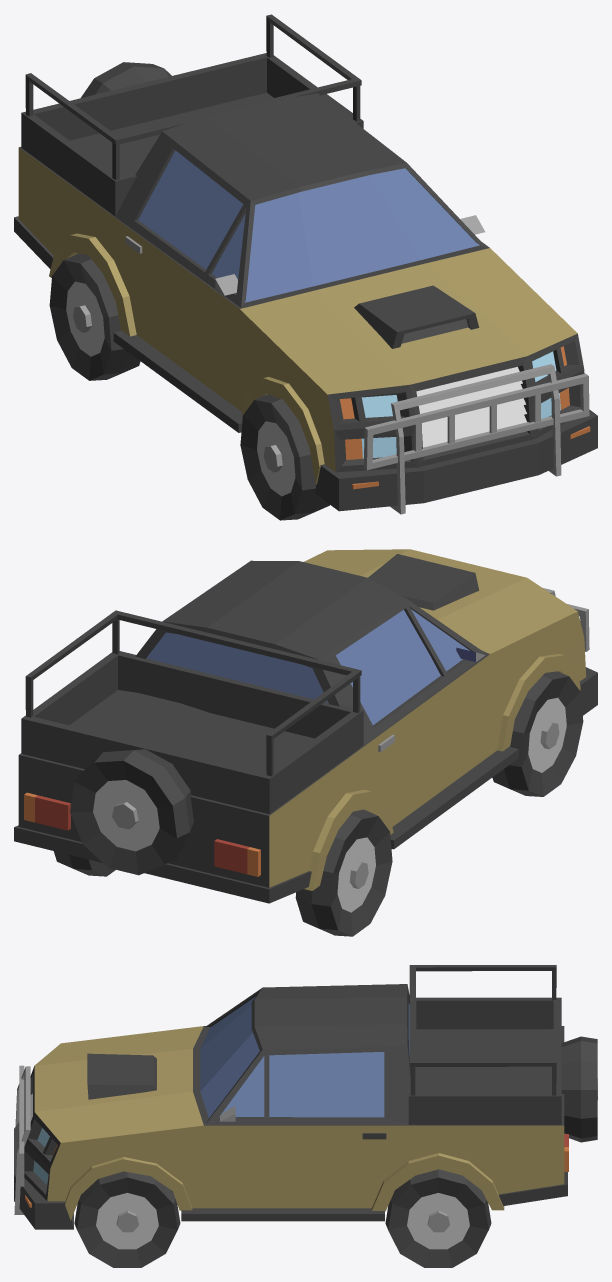
Rendered from transport_jeep_005.fbx.
3 renders of one model, top to bottom at view 1: azimuth 30°, elevation 25°; view 2: azimuth 150°, elevation 25°; view 3: azimuth 270°, elevation 25°, orthographic. The views are drawn at different scales.
Parts seen in each view (by area): view 1: transport_jeep_005; view 2: transport_jeep_005; view 3: transport_jeep_005.
Part boxes in pixels (x1,y1,x2,y2): transport_jeep_005: (14,14,597,520); transport_jeep_005: (14,549,597,936); transport_jeep_005: (14,965,597,1267).
Size of the model in its own units: 176 by 148 by 387.
